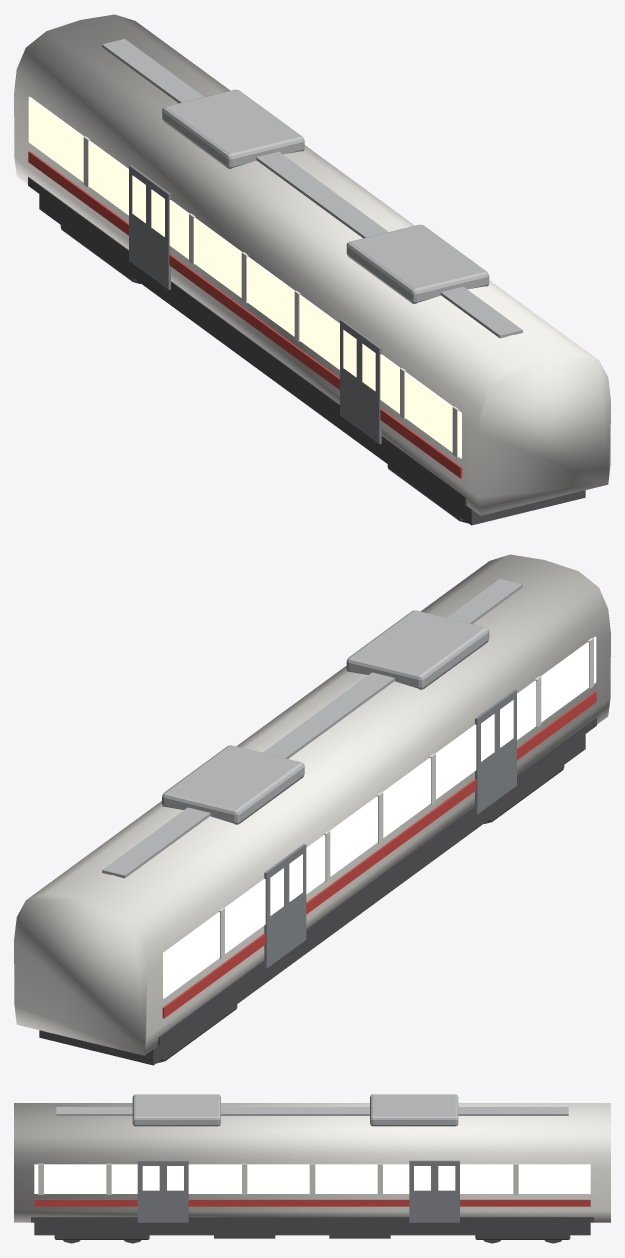
File: train_car.glb
3 views of the same model, one above another, from view 1: azimuth 30°, elevation 25°; view 2: azimuth 150°, elevation 25°; view 3: azimuth 270°, elevation 25° (orthographic). The views are drawn at different scales.
Visible parts, largest first — view 1: train_car; view 2: train_car; view 3: train_car.
Part boxes in pixels (bbox=[...]): train_car: bbox=[14, 14, 610, 525]; train_car: bbox=[14, 554, 610, 1065]; train_car: bbox=[14, 1094, 610, 1243].
Size of the model in its own units: 3.03 by 4.11 by 17.6.
